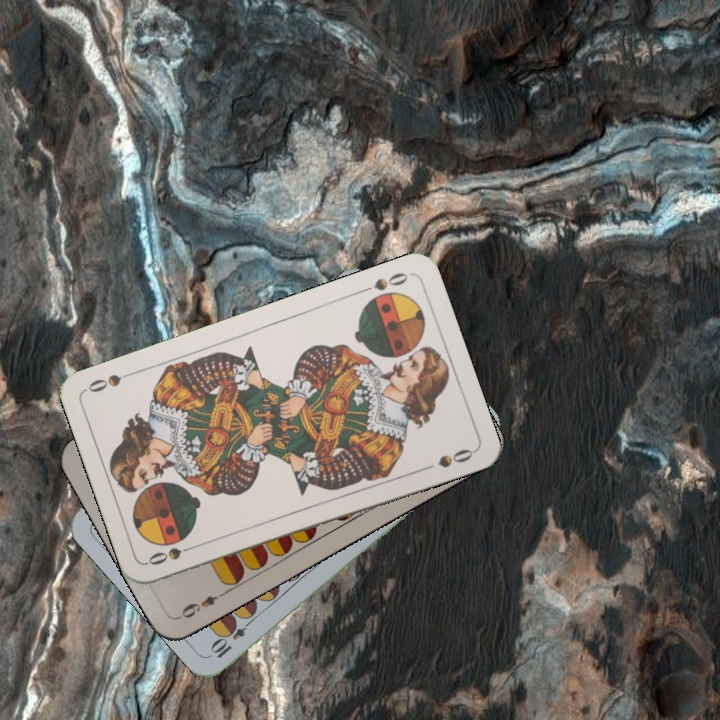E10: (207, 612, 257, 661)
E9: (174, 587, 229, 622)
SO: (143, 539, 201, 568), (356, 268, 413, 296)
